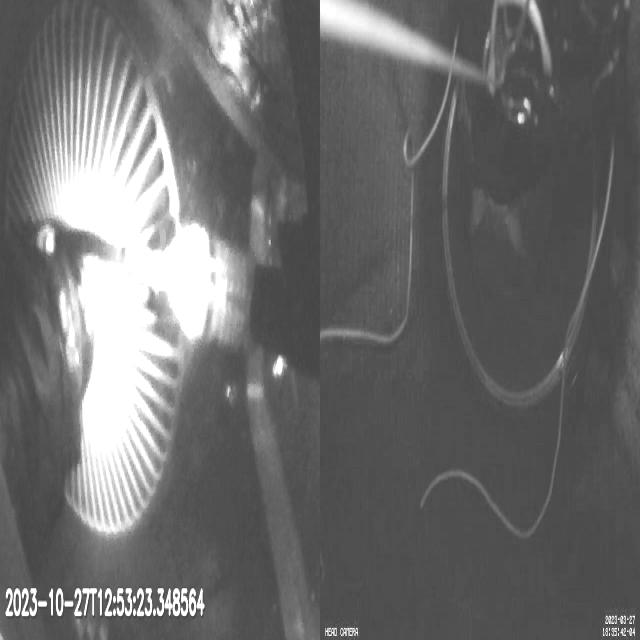head: (166, 221, 256, 350)
